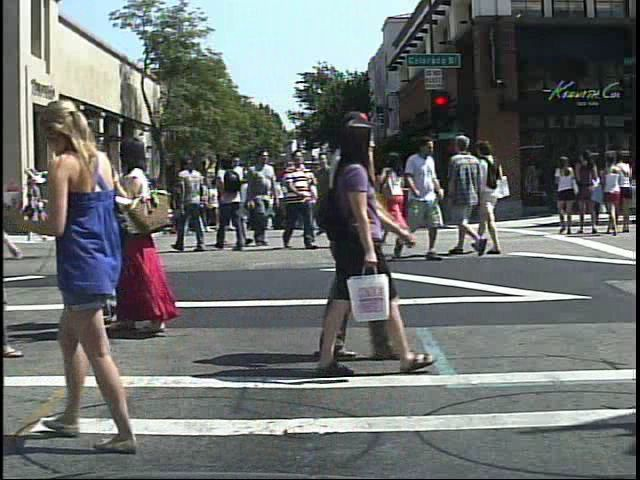person: (47, 84, 175, 459), (290, 117, 407, 380), (117, 134, 196, 343), (349, 106, 408, 367), (92, 131, 136, 333), (470, 134, 517, 265), (404, 135, 449, 262), (280, 143, 327, 253), (342, 137, 384, 252), (447, 131, 482, 256), (213, 151, 253, 258), (377, 144, 416, 249), (244, 147, 281, 255), (215, 150, 252, 253), (174, 151, 210, 255), (554, 152, 582, 236), (189, 170, 209, 239), (66, 182, 86, 232)
